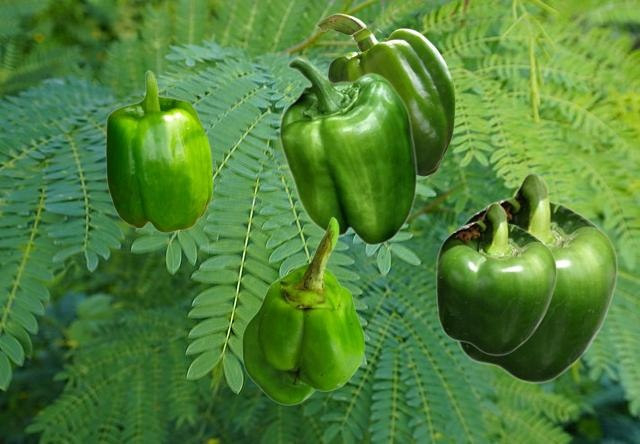bell_pepper: (457, 172, 617, 383), (278, 57, 417, 245), (241, 216, 364, 404), (316, 13, 454, 175), (435, 202, 556, 355), (105, 70, 212, 232)
